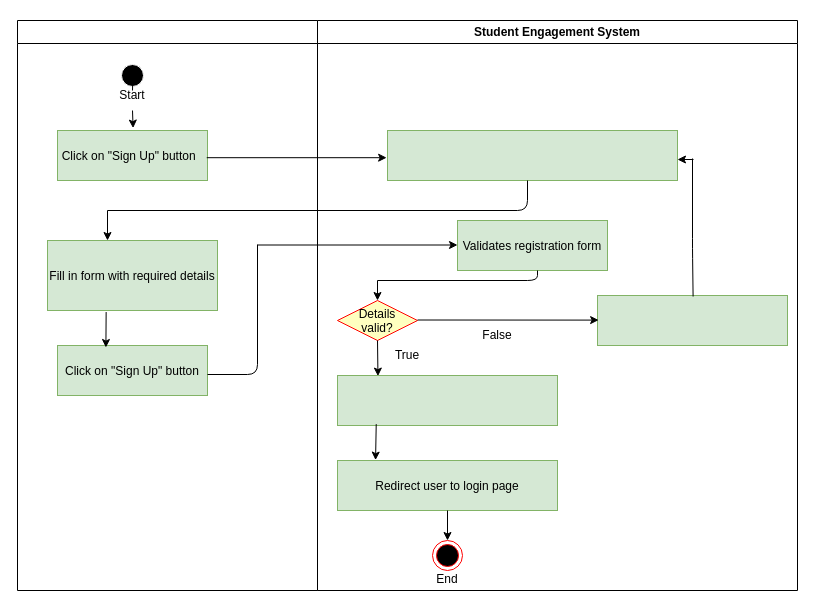
Image size: 815x612. Some labels were removed from this diagram. The shapes that lost their labels are listed below. From the top down, each one's box as (x1, y1, x2, y2) in pixels, then its label:
(386, 130, 678, 180): Display registration page containing registration form
(16, 20, 318, 590): UTM Students, UTM Lecturers, Student Represenative Council Members, Admin
(596, 294, 788, 346): Display invalid sign up message
(336, 374, 558, 426): Add user account into user database
